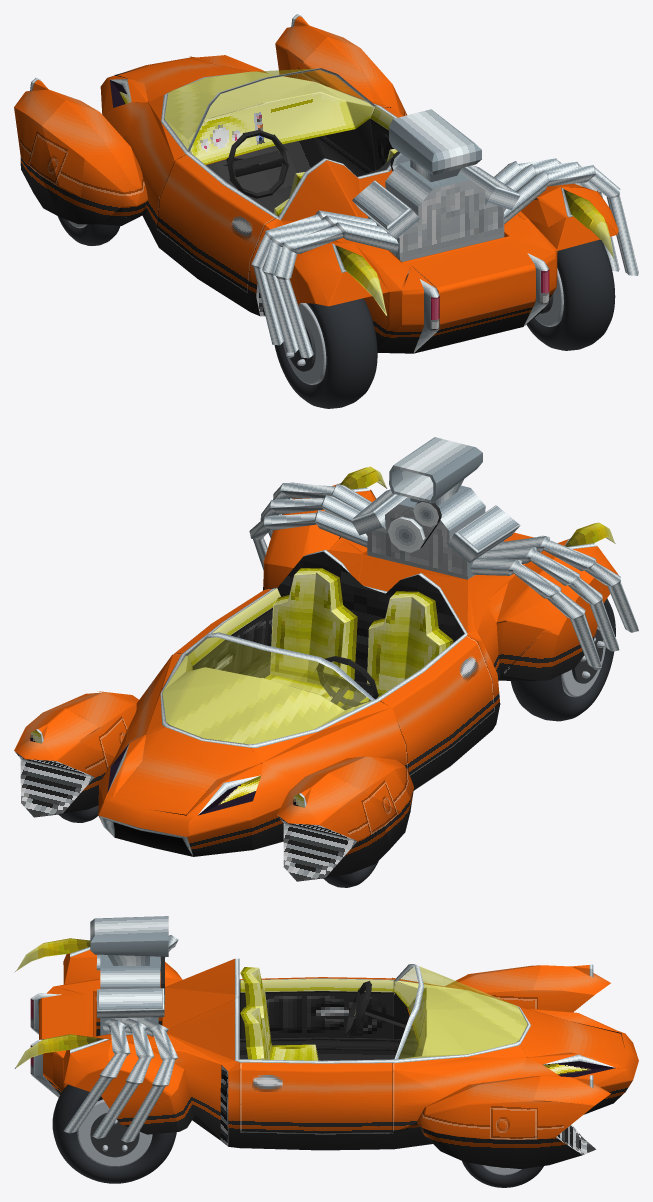
Rendered from car-scorp_v.glb.
3 views of the same model, one above another, from view 1: azimuth 30°, elevation 25°; view 2: azimuth 150°, elevation 25°; view 3: azimuth 270°, elevation 25° (orthographic). The views are drawn at different scales.
Visible parts, largest first — view 1: scorp_vShape.006, engineBlockShape, scorp_vShape.003, scorp_vShape.005, DoorDRotShape.102, Rounded tire.151, scorp_vShape.004, Rounded tire.149, engineBlock1Shape, scorp_vShape.002, TrunkRotShape.028, scorp_vShape.007 (+7 smaller); view 2: scorp_vShape.006, scorp_vShape.005, engineBlockShape, scorp_vShape.003, scorp_vShape.007, scorp_vShape.004, DoorDRotShape.102, HoodRotShape.026, DoorPInnerShape.001, scorp_vShape.001, engineBlock1Shape, Rounded tire.151 (+1 smaller); view 3: scorp_vShape.004, scorp_vShape.005, scorp_vShape.006, engineBlockShape, DoorPRotShape.111, scorp_vShape.007, DoorDRotShape.103, scorp_vShape.003, Rounded tire.149, HoodRotShape.026, scorp_vShape.001, TrunkRotShape.029 (+4 smaller).
Boxes of the visible parts, x1,y1,x2,y2 form: scorp_vShape.006: [110, 16, 614, 329]; engineBlockShape: [251, 109, 638, 358]; scorp_vShape.003: [14, 80, 284, 315]; scorp_vShape.005: [100, 55, 618, 348]; DoorDRotShape.102: [156, 153, 275, 291]; Rounded tire.151: [274, 298, 377, 408]; scorp_vShape.004: [263, 16, 406, 115]; Rounded tire.149: [526, 223, 615, 350]; engineBlock1Shape: [399, 175, 504, 277]; scorp_vShape.002: [205, 151, 556, 353]; TrunkRotShape.028: [437, 264, 535, 324]; scorp_vShape.007: [164, 68, 367, 149]; scorp_vShape.006: [14, 466, 615, 881]; scorp_vShape.005: [98, 483, 618, 856]; engineBlockShape: [249, 437, 638, 668]; scorp_vShape.003: [251, 631, 500, 880]; scorp_vShape.007: [162, 637, 371, 743]; scorp_vShape.004: [14, 654, 181, 816]; DoorDRotShape.102: [379, 635, 494, 774]; HoodRotShape.026: [114, 727, 261, 814]; DoorPInnerShape.001: [188, 588, 280, 675]; scorp_vShape.001: [36, 483, 597, 855]; engineBlock1Shape: [367, 498, 468, 579]; Rounded tire.151: [510, 598, 615, 721]; scorp_vShape.004: [221, 1044, 610, 1168]; scorp_vShape.005: [46, 950, 638, 1139]; scorp_vShape.006: [15, 938, 624, 1154]; engineBlockShape: [63, 916, 178, 1142]; DoorPRotShape.111: [239, 1062, 394, 1133]; scorp_vShape.007: [398, 966, 527, 1058]; DoorDRotShape.103: [239, 979, 394, 1038]; scorp_vShape.003: [392, 965, 610, 1041]; Rounded tire.149: [52, 1084, 176, 1183]; HoodRotShape.026: [521, 1008, 625, 1063]; scorp_vShape.001: [30, 947, 614, 1097]; TrunkRotShape.029: [42, 994, 85, 1038].
Size of the model in its own units: 2.68 by 1.76 by 4.83.
Materials: 11 (8 with a texture image).
